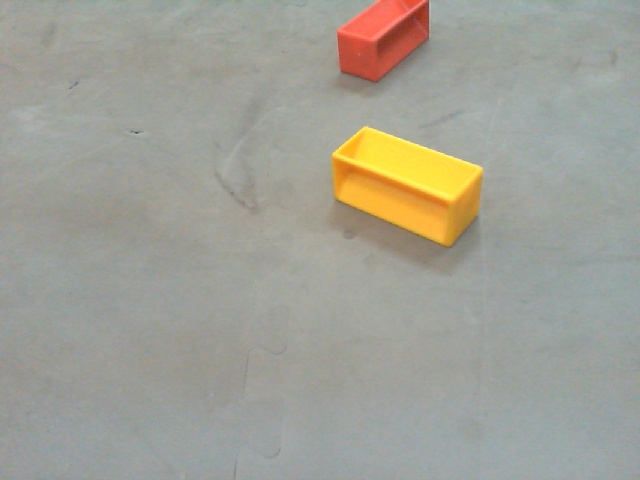RedSample: (332, 1, 429, 84)
YellowSample: (331, 125, 484, 248)
